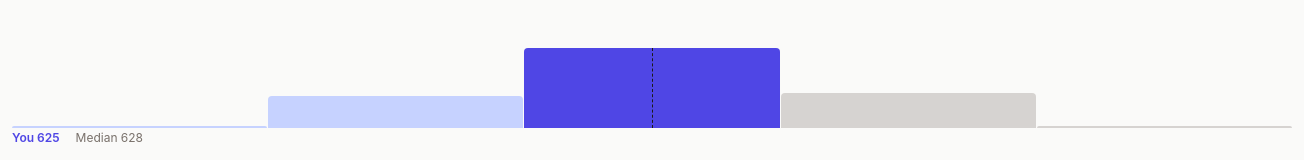
Test: Distribution tooltip › stays on the last bar after the finger lifts, and no longer follows a finger that is not pressed
The width and height of the screenshot is (1304, 160).
Step 1. Press the mouse on the element named "How 46 candidates scored. Your score is 625." → (652, 70), box [12, 12, 1292, 128]
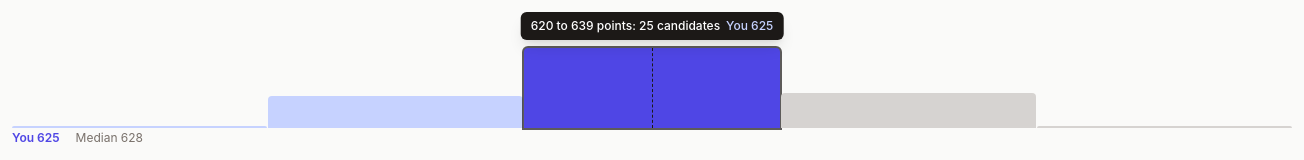
Result: the tooltip shows "620 to 639 points: 25 candidates" at [531, 18, 720, 33]
